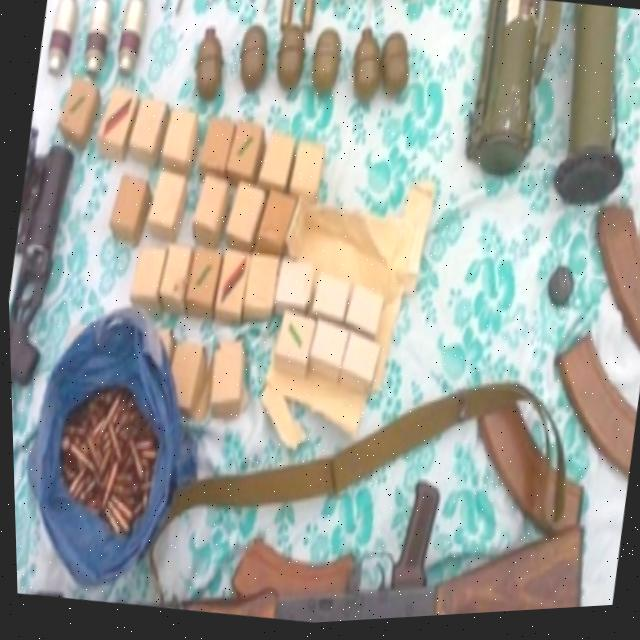firearm: (10, 409, 594, 640), (3, 126, 84, 429)
grenade: (177, 11, 228, 88), (346, 25, 389, 110), (302, 22, 347, 101), (231, 16, 276, 95), (268, 20, 314, 95), (41, 0, 81, 79), (372, 35, 413, 106), (111, 0, 147, 77), (78, 0, 113, 76)
rocket: (542, 5, 640, 213), (457, 0, 562, 188)
